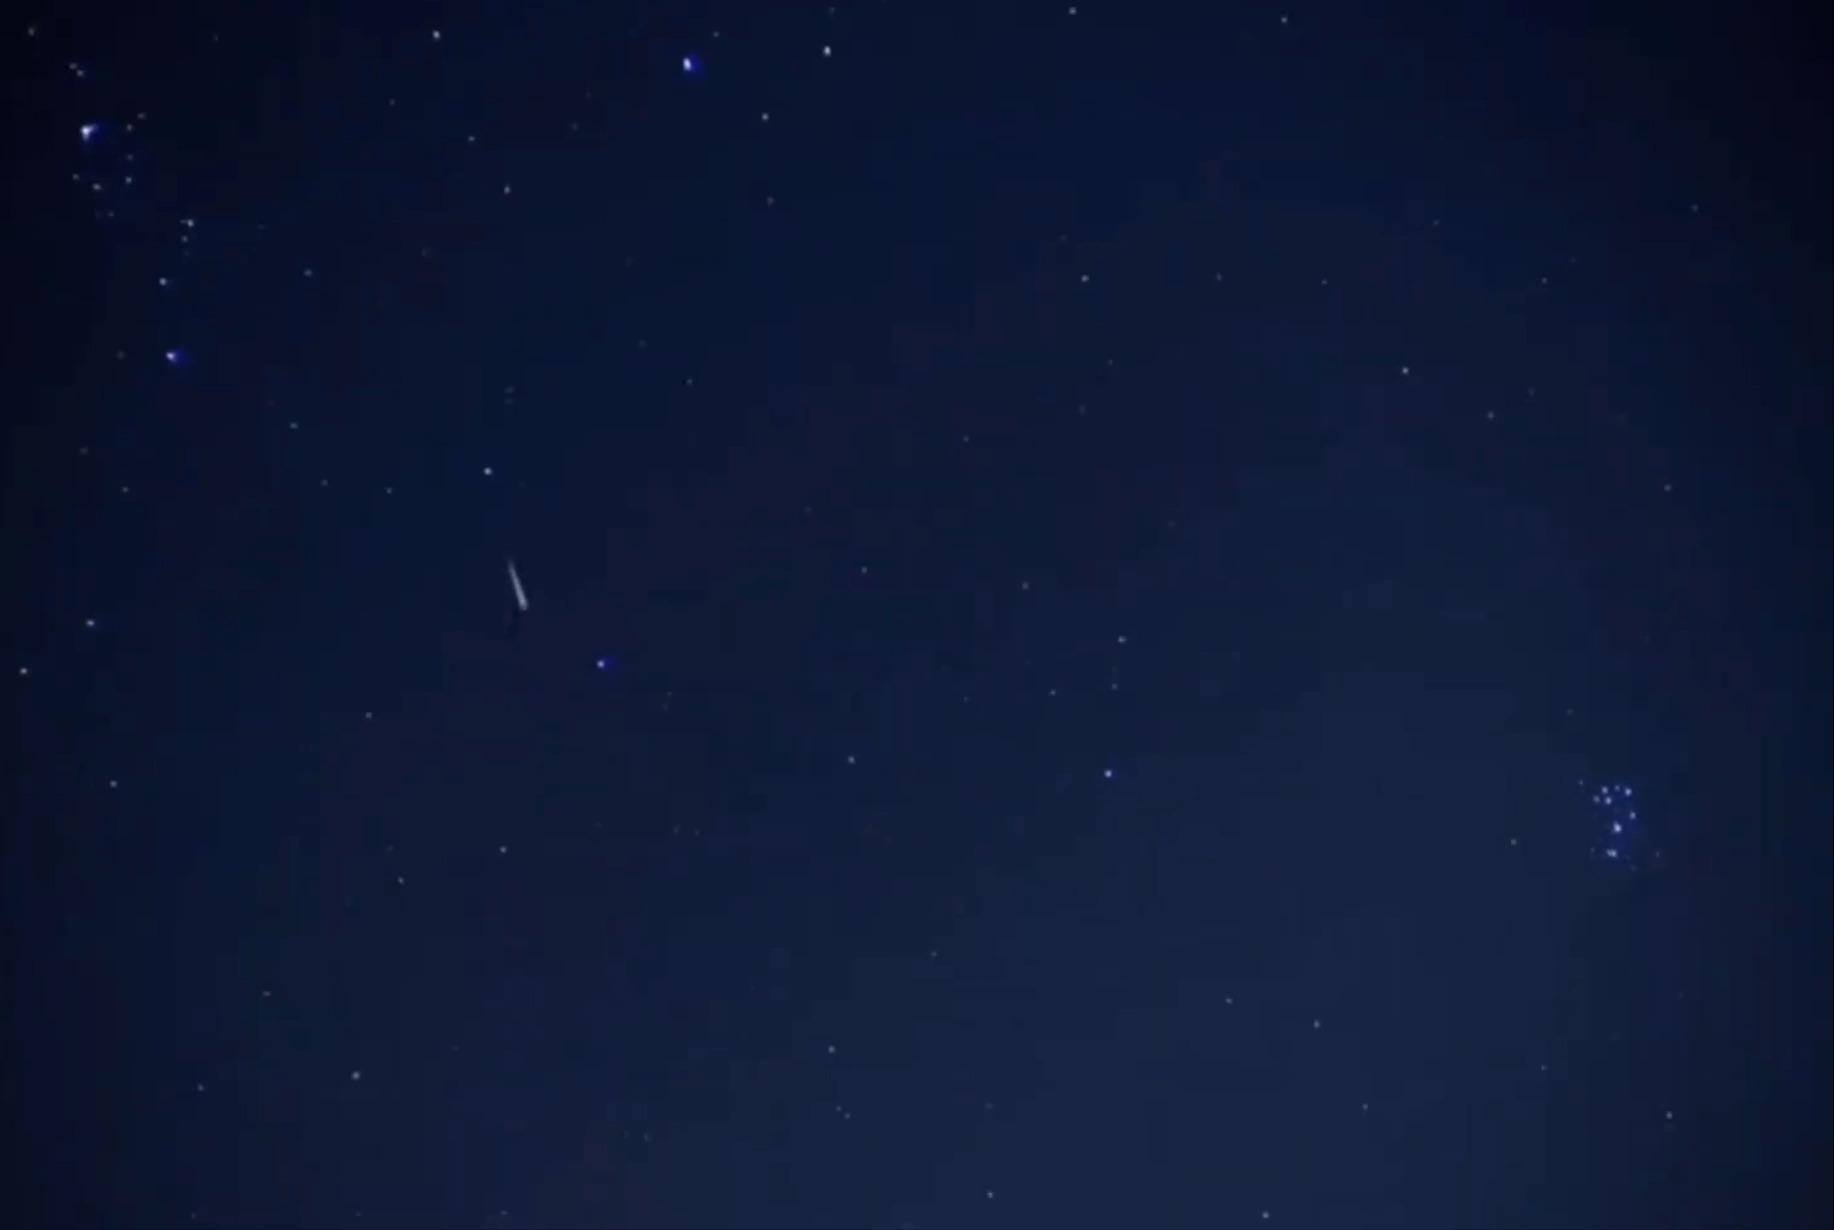meteorite: (445, 546, 582, 620)
